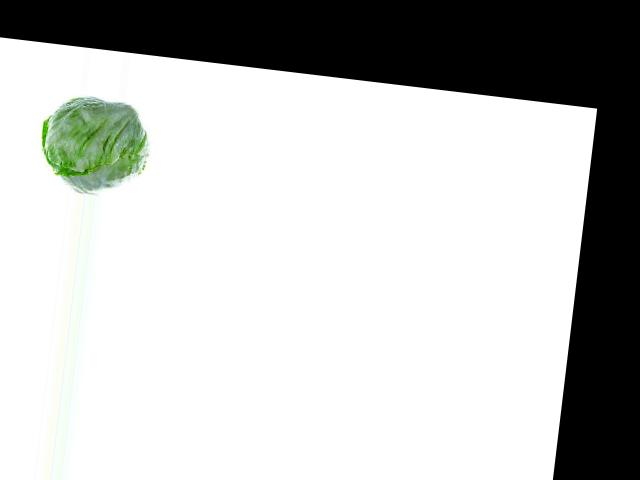lettuce: (37, 96, 152, 198)
